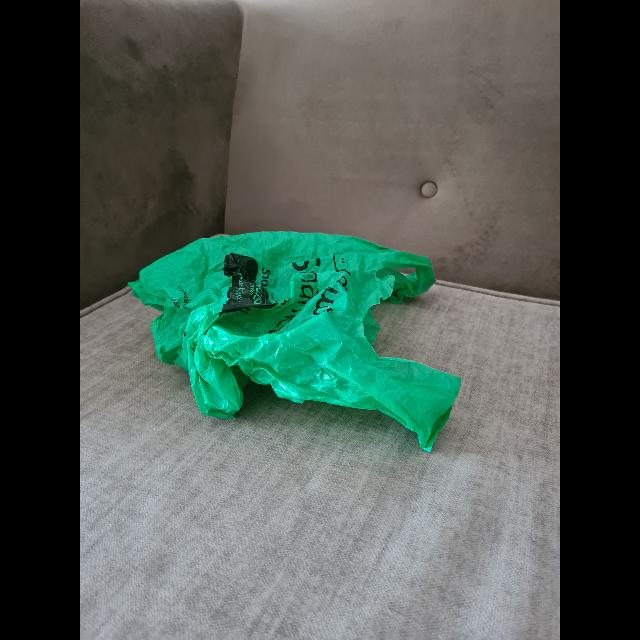plastic_bag: (126, 226, 470, 446)
